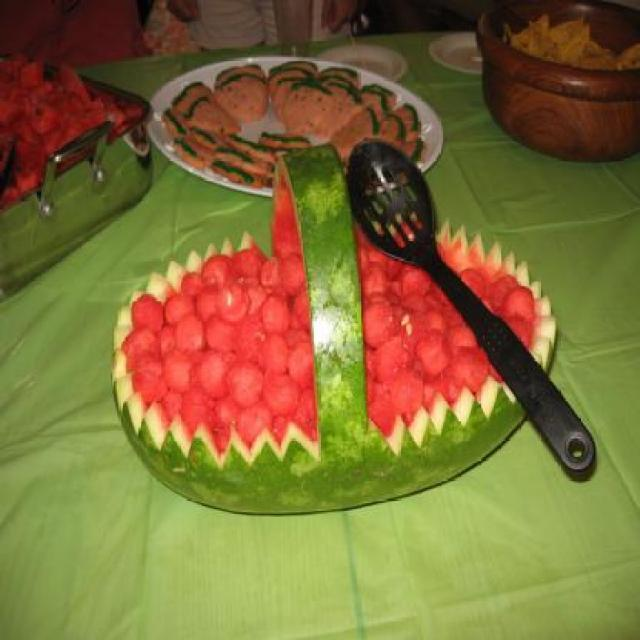Watermelon: (110, 143, 559, 514), (0, 54, 143, 218)
